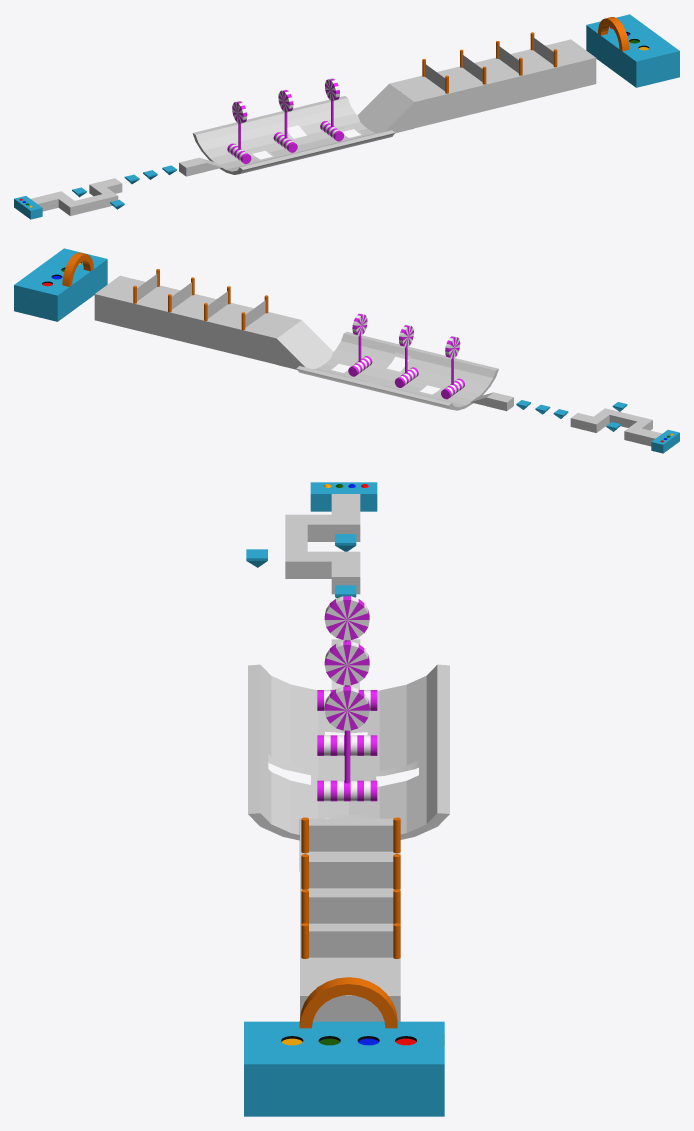
Rendered from _ecor.fbx.
The picture shows the model from 3 angles, top to bottom: view 1: azimuth 30°, elevation 25°; view 2: azimuth 150°, elevation 25°; view 3: azimuth 270°, elevation 25°; orthographic projection. The views are drawn at different scales.
Parts seen in each view (by area): view 1: Box018, Cylinder006, Box019, Box017, Cylinder016, Box008, Box003, Box015, Box004, Cylinder025, Cylinder023, Cylinder027 (+1 smaller); view 2: Box018, Cylinder006, Box019, Box017, Cylinder016, Box004, Box003, Box008, Box015, Cylinder027, Box009, Cylinder023 (+1 smaller); view 3: Cylinder006, Box019, Box018, Plane003, Plane004, Plane001, Plane002, Cylinder016, Cylinder027, Cylinder022, Cylinder024, Cylinder026 (+6 smaller).
Boxes of the visible parts, x1,y1,x2,y2 form: Box018: (389,39,596,128); Cylinder006: (192,96,394,174); Box019: (586,14,679,87); Box017: (357,84,414,133); Cylinder016: (598,17,629,51); Box008: (75,191,118,213); Box003: (14,196,42,219); Box015: (179,157,206,176); Box004: (30,191,68,211); Cylinder025: (273,112,297,152); Cylinder023: (227,123,251,163); Cylinder027: (320,101,344,141); Box018: (94,275,301,364); Cylinder006: (296,331,498,410); Box019: (14,248,107,321); Box017: (276,320,333,369); Cylinder016: (62,252,93,286); Box004: (624,426,662,446); Box003: (651,430,679,453); Box008: (600,408,642,427); Box015: (486,392,513,411); Cylinder027: (348,336,372,376); Box009: (586,412,609,432); Cylinder023: (441,358,464,399); Cylinder006: (248,664,449,840); Box019: (244,1021,444,1116); Box018: (300,818,400,1021); Plane003: (309,897,393,923); Plane004: (309,931,393,957); Plane001: (309,825,393,851); Plane002: (309,862,393,888); Cylinder016: (299,977,397,1028); Cylinder027: (317,730,377,801); Cylinder022: (324,596,369,640); Cylinder024: (324,641,369,685); Cylinder026: (324,686,369,730).
Size of the model in its own units: 2472 by 225 by 349.
